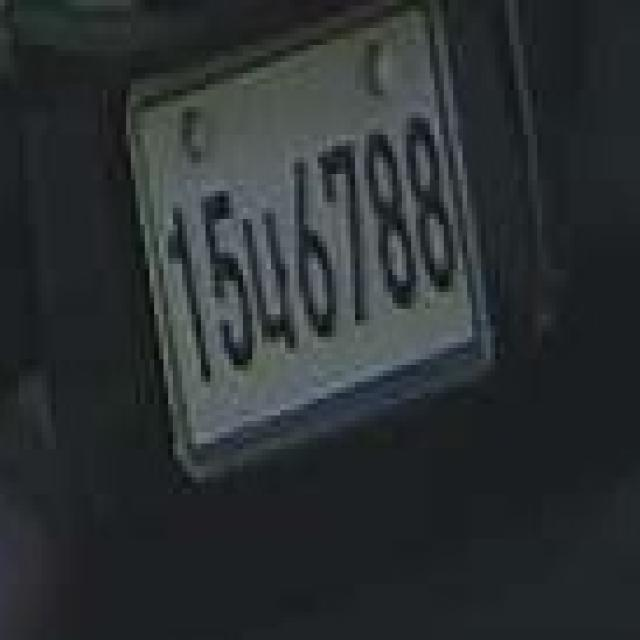plat: (123, 3, 503, 482)
